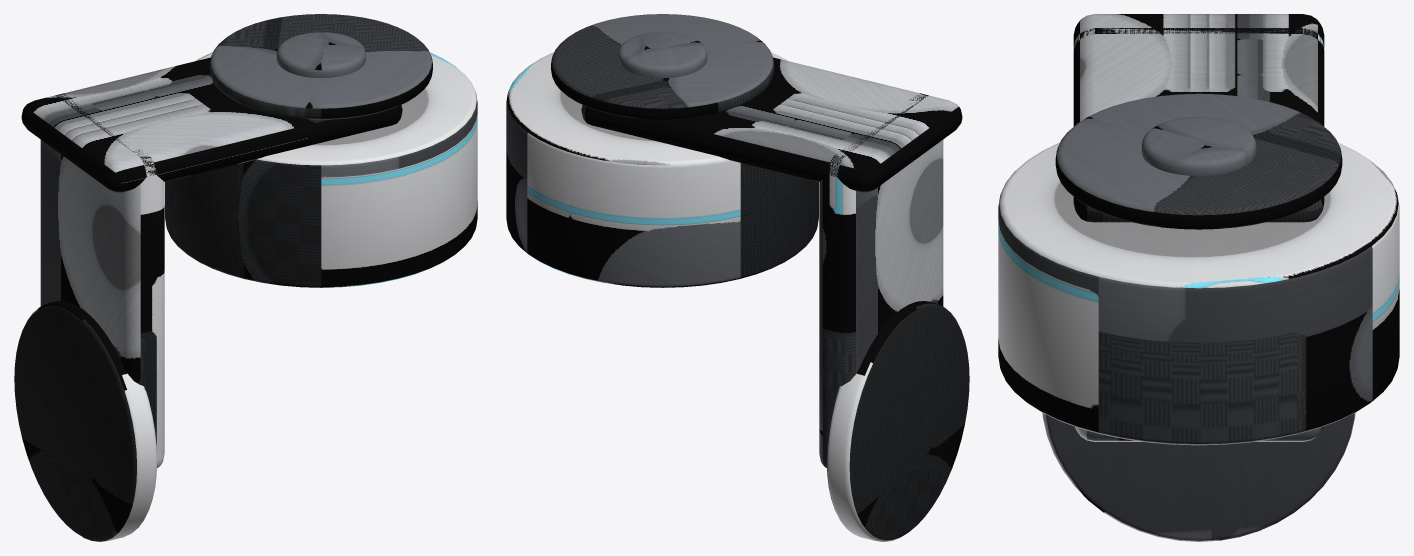
Rendered from left_hip_roll.obj.
3 renders of one model, left to right at view 1: azimuth 30°, elevation 25°; view 2: azimuth 150°, elevation 25°; view 3: azimuth 270°, elevation 25°, orthographic. The views are drawn at different scales.
Parts seen in each view (by area): view 1: left_hip_roll; view 2: left_hip_roll; view 3: left_hip_roll.
Boxes of the visible parts, left/top/right/bottom form: left_hip_roll: left=14, top=14, right=477, bottom=541; left_hip_roll: left=506, top=14, right=969, bottom=541; left_hip_roll: left=998, top=14, right=1399, bottom=541.
Bounding box in the file's own units: 0.1625 × 0.168 × 0.112.
Materials: 1 (1 with a texture image).
